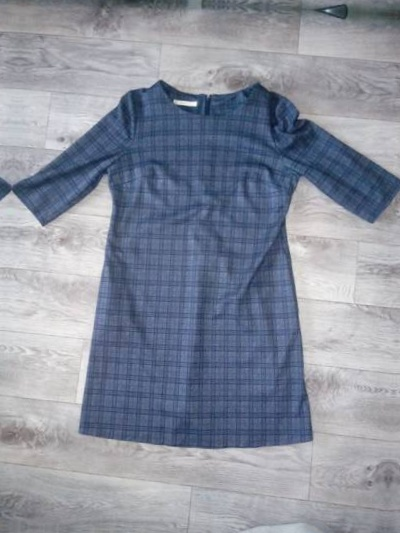Dress: (0, 61, 400, 471), (0, 38, 19, 447), (396, 86, 400, 495)
